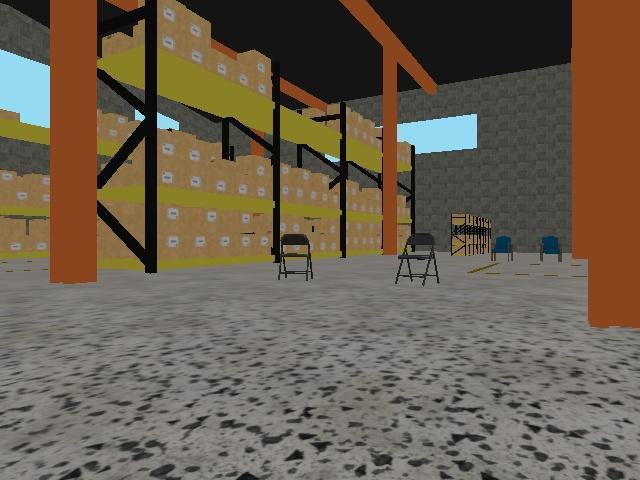chair: (395, 232, 440, 285), (278, 233, 313, 281), (490, 236, 514, 262), (539, 236, 562, 263)
